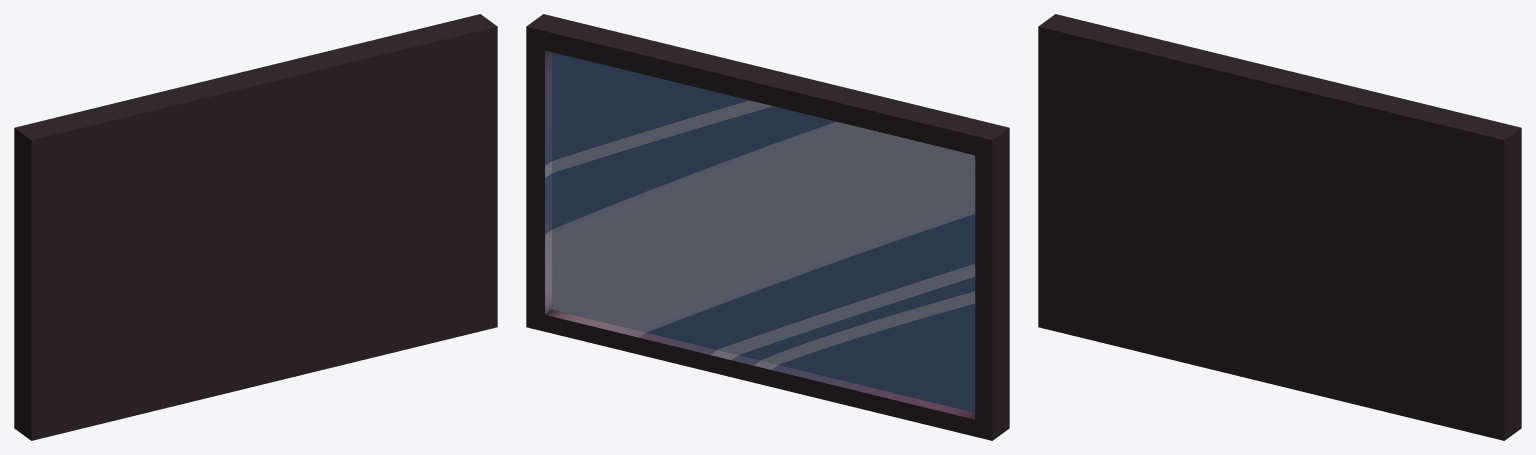
The model's file is painting4.fbx.
3 renders of one model, left to right at view 1: azimuth 30°, elevation 25°; view 2: azimuth 150°, elevation 25°; view 3: azimuth 330°, elevation 25°, orthographic.
Parts seen in each view (by area): view 1: pCube162; view 2: pCube162; view 3: pCube162.
Part boxes in pixels (<box>): pCube162: <box>14,14,497,440</box>; pCube162: <box>526,14,1009,440</box>; pCube162: <box>1038,14,1521,440</box>.
Bounding box in the file's own units: 211 × 130 × 13.48.
